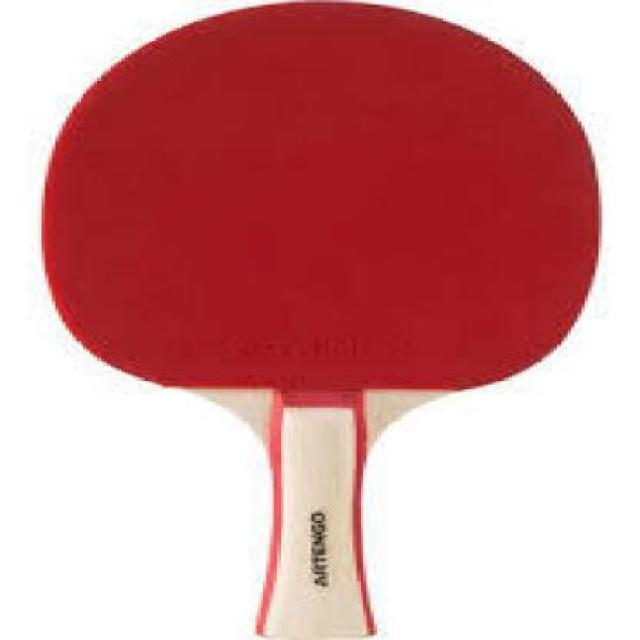table_tennis_racket: (37, 0, 617, 409)
